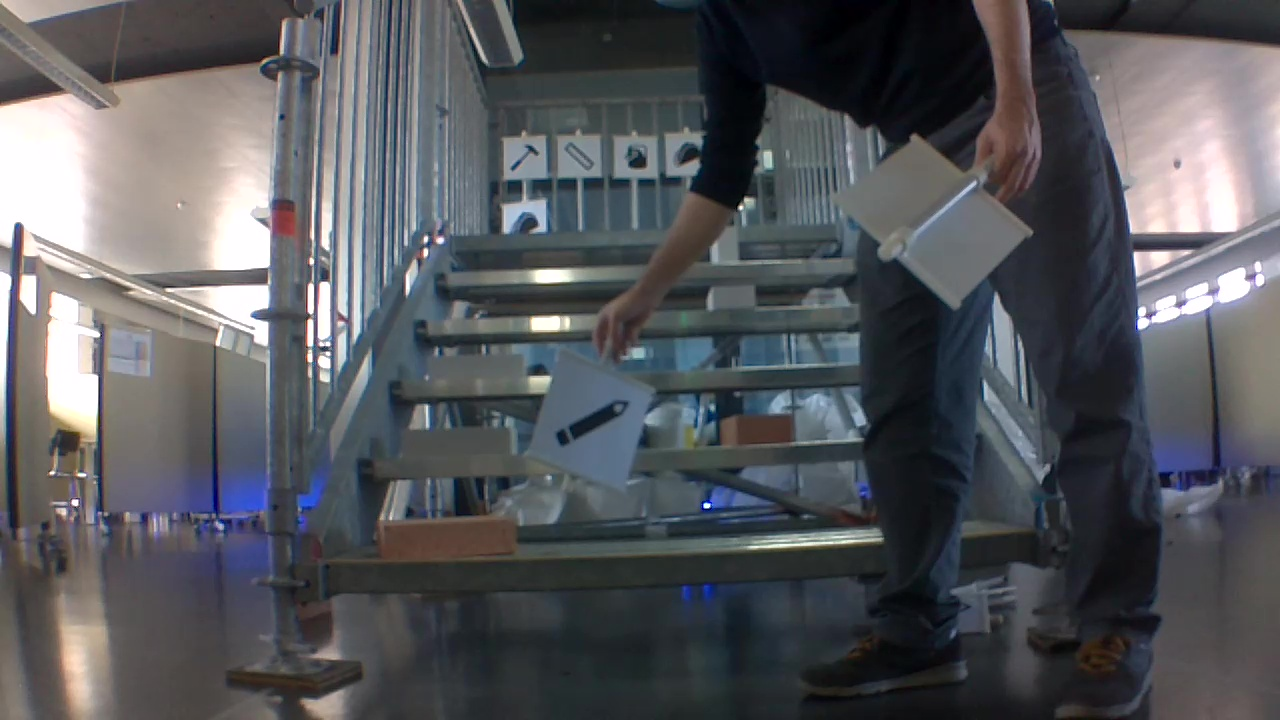brick: (382, 514, 511, 553), (396, 423, 518, 457), (434, 352, 531, 384), (719, 413, 792, 448), (708, 227, 745, 266), (702, 285, 757, 310)
bucket: (620, 137, 650, 175)
edge: (328, 540, 884, 600)
hammer: (505, 141, 540, 172)
pencil: (553, 395, 631, 450)
ruler: (563, 141, 594, 173)
taco: (671, 140, 700, 168), (508, 213, 544, 233)
